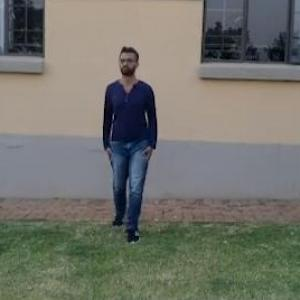follow: (93, 31, 166, 262)
